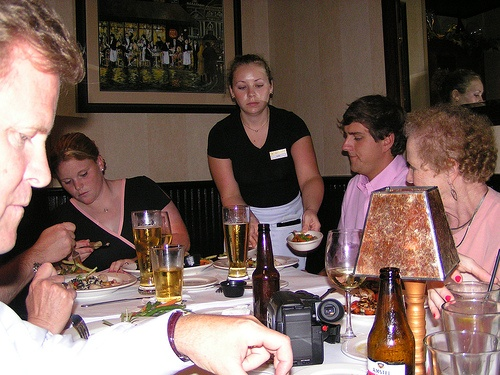head: (1, 7, 69, 254), (408, 106, 496, 208), (338, 91, 400, 179), (54, 131, 107, 212), (228, 54, 274, 114), (439, 67, 483, 103)
person: (1, 2, 224, 375), (207, 51, 322, 255), (51, 131, 192, 266), (407, 105, 499, 297), (332, 94, 408, 244)
